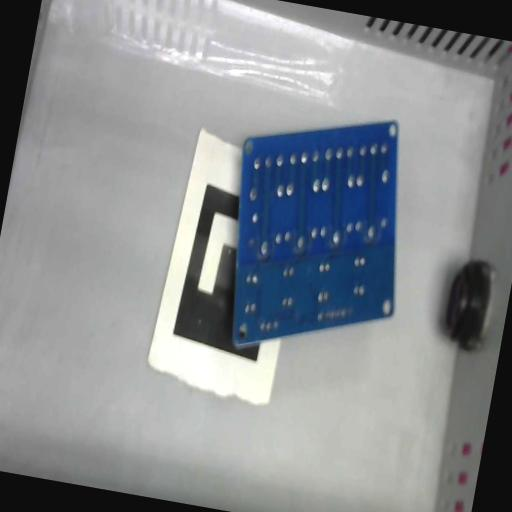relay_module: (206, 91, 427, 374)
